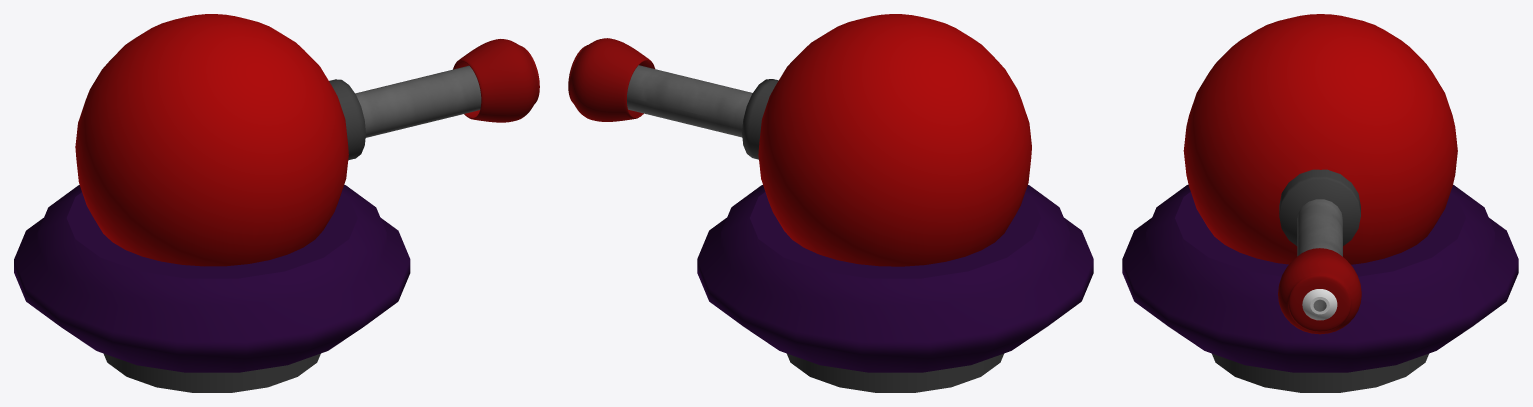
3 views of the same model, side by side, from view 1: azimuth 30°, elevation 25°; view 2: azimuth 150°, elevation 25°; view 3: azimuth 270°, elevation 25° (orthographic).
Visible parts, largest first — view 1: Sphere001, Tube002, Tube004, Teapot001, Tube001, Tube005; view 2: Sphere001, Tube002, Tube004, Teapot001, Tube001, Tube005; view 3: Sphere001, Tube002, Teapot001, Tube001, Tube005, Tube004, Tube006.
Boxes of the visible parts, <box> form: Sphere001: <box>75,14,348,266</box>; Tube002: <box>14,185,410,372</box>; Tube004: <box>355,65,481,137</box>; Teapot001: <box>453,39,539,122</box>; Tube001: <box>103,353,320,392</box>; Tube005: <box>329,79,365,160</box>; Sphere001: <box>758,14,1031,266</box>; Tube002: <box>697,185,1093,372</box>; Tube004: <box>627,65,752,137</box>; Teapot001: <box>568,38,655,121</box>; Tube001: <box>787,353,1004,392</box>; Tube005: <box>742,79,778,159</box>; Sphere001: <box>1183,14,1457,264</box>; Tube002: <box>1122,184,1518,372</box>; Teapot001: <box>1278,248,1361,334</box>; Tube001: <box>1212,353,1428,392</box>; Tube005: <box>1279,169,1360,245</box>; Tube004: <box>1297,199,1342,311</box>; Tube006: <box>1302,289,1337,320</box>.
Bounding box in the file's own units: 2479 × 1560 × 1753.
6 materials, 6 textured.
